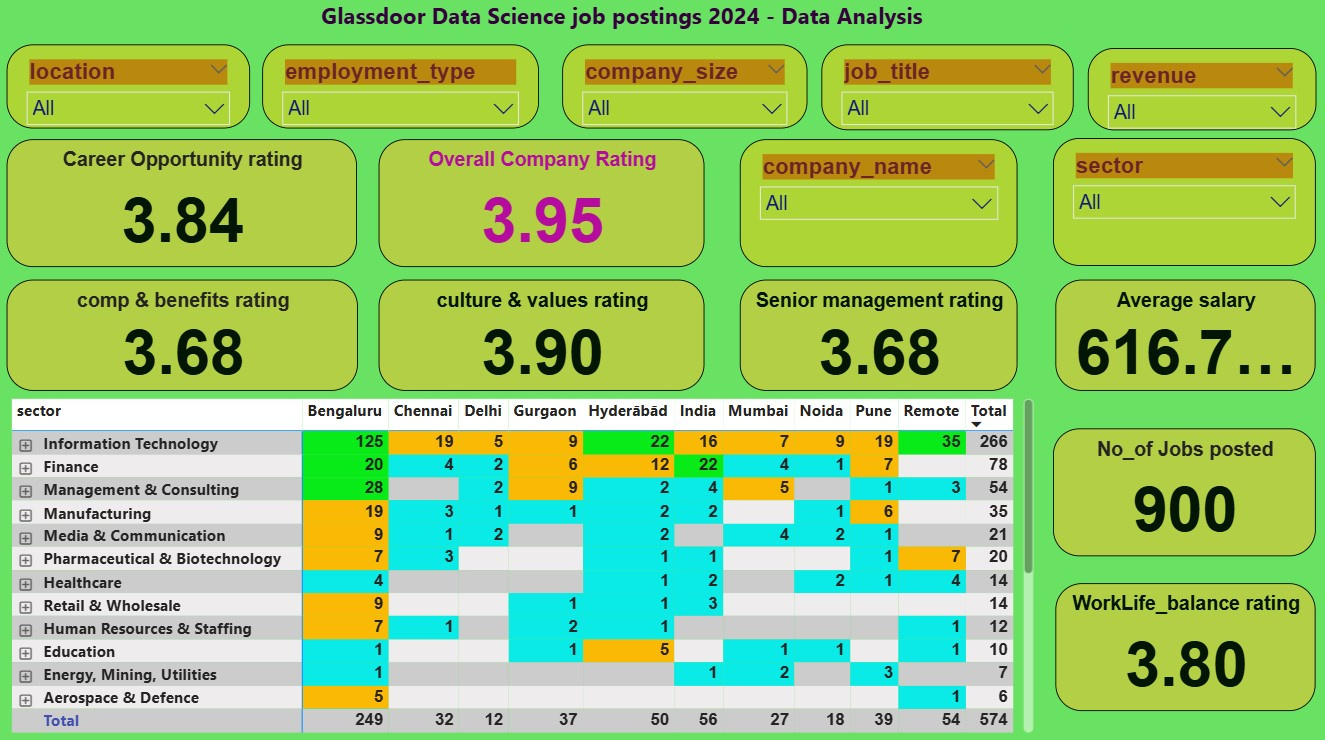

Layout of this report page (visuals, bound fields, positions):
{"tool":"powerbi","page":{"name":"Page 2","canvas":[1280,720],"ordinal":1},"visuals":[{"type":"slicer","fields":{"Values":["Glass door data science jobs -.location"]},"box":[15,48.3,231.7,80],"z":0},{"type":"slicer","fields":{"Values":["Glass door data science jobs -.job_title"]},"box":[790,48.3,240,81.7],"z":1000},{"type":"slicer","fields":{"Values":["Glass door data science jobs -.employment_type"]},"box":[258.3,48.3,263.3,80],"z":2000},{"type":"slicer","fields":{"Values":["Glass door data science jobs -.company_size"]},"box":[543.3,48.3,233.3,80],"z":3000},{"type":"slicer","fields":{"Values":["Glass door data science jobs -.company_name"]},"box":[712.9,138.6,264.3,121.4],"z":4000},{"type":"card","title":"No_of Jobs posted","fields":{"Values":["Glass door data science jobs -.No_of_job_openings"]},"box":[1010,412.9,250,121.4],"z":5000},{"type":"pivotTable","title":"No_of_job_openings by Top-10 locations","fields":{"Rows":["Glass door data science jobs -.sector","Glass door data science jobs -.job_title","Glass door data science jobs -.company_size"],"Values":["Glass door data science jobs -.No_of_job_openings"],"Columns":["Glass door data science jobs -.location"]},"box":[14.3,380,981.4,327.1],"z":6000},{"type":"card","title":"WorkLife_balance rating","fields":{"Values":["Avg(Glass door data science jobs -.work_life_balance_rating)"]},"box":[1012.9,560,247.1,121.4],"z":7000},{"type":"card","title":"Career Opportunity rating","fields":{"Values":["Avg(Glass door data science jobs -.career_opportunities_rating)"]},"box":[15,138.3,333.3,121.7],"z":8000},{"type":"card","title":"comp & benefits rating","fields":{"Values":["Avg(Glass door data science jobs -.comp_and_benefits_rating)"]},"box":[14.3,271.4,334.3,105.7],"z":9000},{"type":"slicer","fields":{"Values":["Glass door data science jobs -.revenue"]},"box":[1042.9,51.4,217.1,78.6],"z":10000},{"type":"textbox","box":[291.7,0,618.3,51.7],"z":11000},{"type":"card","title":"culture & values rating","fields":{"Values":["Avg(Glass door data science jobs -.culture_and_values_rating)"]},"box":[368.6,271.4,310,105.7],"z":12000},{"type":"card","title":"Average salary","fields":{"Values":["Avg(Glass door data science jobs -.salary_avg_estimate)"]},"box":[1012.9,271.4,247.1,105.7],"z":13000},{"type":"card","title":"Overall Company Rating","fields":{"Values":["Avg(Glass door data science jobs -.company_rating)"]},"box":[368.3,138.3,310,121.7],"z":14000},{"type":"card","title":"Senior management rating","fields":{"Values":["Avg(Glass door data science jobs -.senior_management_rating)"]},"box":[712.9,271.4,264.3,105.7],"z":15000},{"type":"slicer","fields":{"Values":["Glass door data science jobs -.sector"]},"box":[1010,137.1,250,121.4],"z":16000}]}

Visuals, with their boxes in screenshot pixels (x1, y1, x2, y2), scaled from the page's 1280x720 canvas onto the 1325x740 screenshot:
slicer - Glass door data science jobs -.location: Rect(16, 50, 255, 132)
slicer - Glass door data science jobs -.job_title: Rect(818, 50, 1066, 134)
slicer - Glass door data science jobs -.employment_type: Rect(267, 50, 540, 132)
slicer - Glass door data science jobs -.company_size: Rect(562, 50, 804, 132)
slicer - Glass door data science jobs -.company_name: Rect(738, 142, 1012, 267)
"No_of Jobs posted" card: Rect(1046, 424, 1304, 549)
"No_of_job_openings by Top-10 locations" pivotTable: Rect(15, 391, 1031, 727)
"WorkLife_balance rating" card: Rect(1049, 576, 1304, 700)
"Career Opportunity rating" card: Rect(16, 142, 361, 267)
"comp & benefits rating" card: Rect(15, 279, 361, 388)
slicer - Glass door data science jobs -.revenue: Rect(1080, 53, 1304, 134)
textbox: Rect(302, 0, 942, 53)
"culture & values rating" card: Rect(382, 279, 702, 388)
"Average salary" card: Rect(1049, 279, 1304, 388)
"Overall Company Rating" card: Rect(381, 142, 702, 267)
"Senior management rating" card: Rect(738, 279, 1012, 388)
slicer - Glass door data science jobs -.sector: Rect(1046, 141, 1304, 266)
